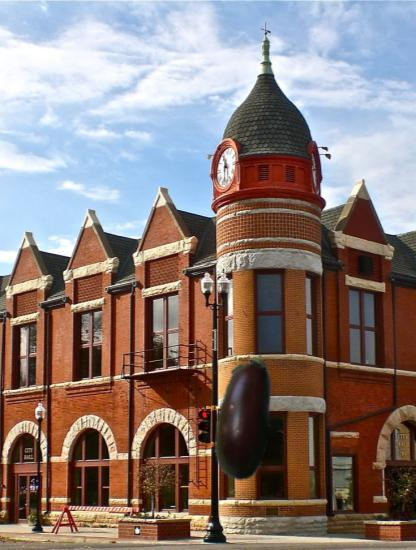Eggplant: (179, 351, 310, 482)
